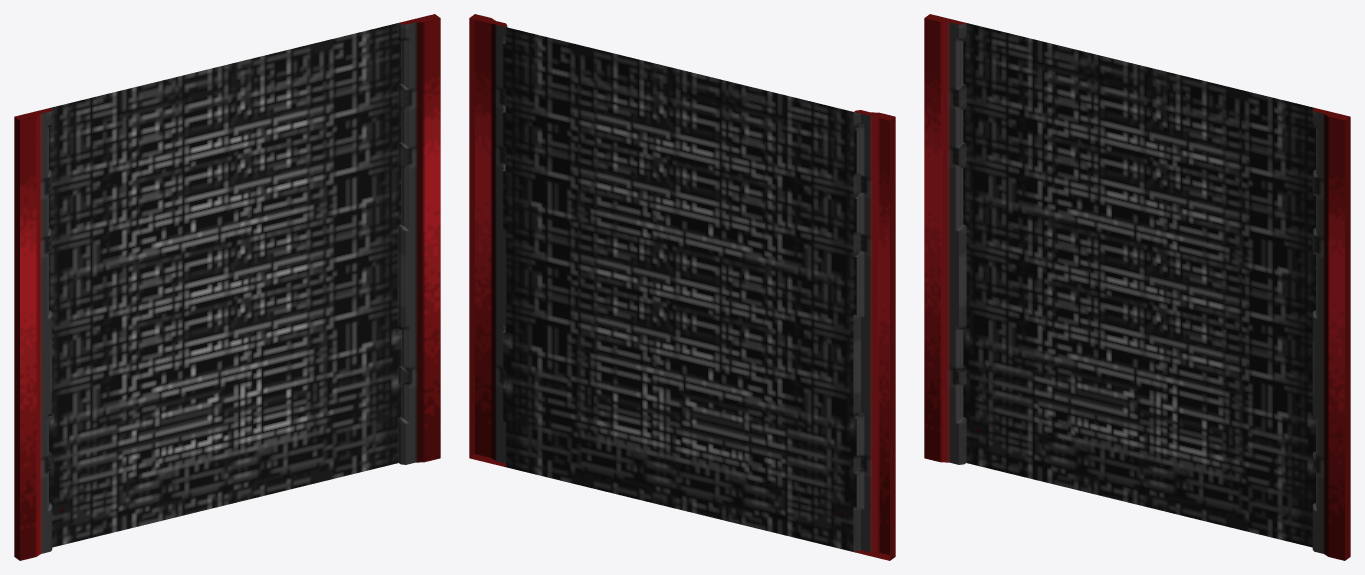
The model's file is reac3_7.fbx.
The picture shows the model from 3 angles, left to right: view 1: azimuth 30°, elevation 25°; view 2: azimuth 150°, elevation 25°; view 3: azimuth 330°, elevation 25°; orthographic projection.
Visible parts, largest first — view 1: reac3_7_mesh; view 2: reac3_7_mesh; view 3: reac3_7_mesh.
Boxes of the visible parts, x1,y1,x2,y2 form: reac3_7_mesh: (14, 14, 440, 560); reac3_7_mesh: (469, 14, 895, 560); reac3_7_mesh: (924, 14, 1350, 560).
Bounding box in the file's own units: 256 × 256 × 6.
